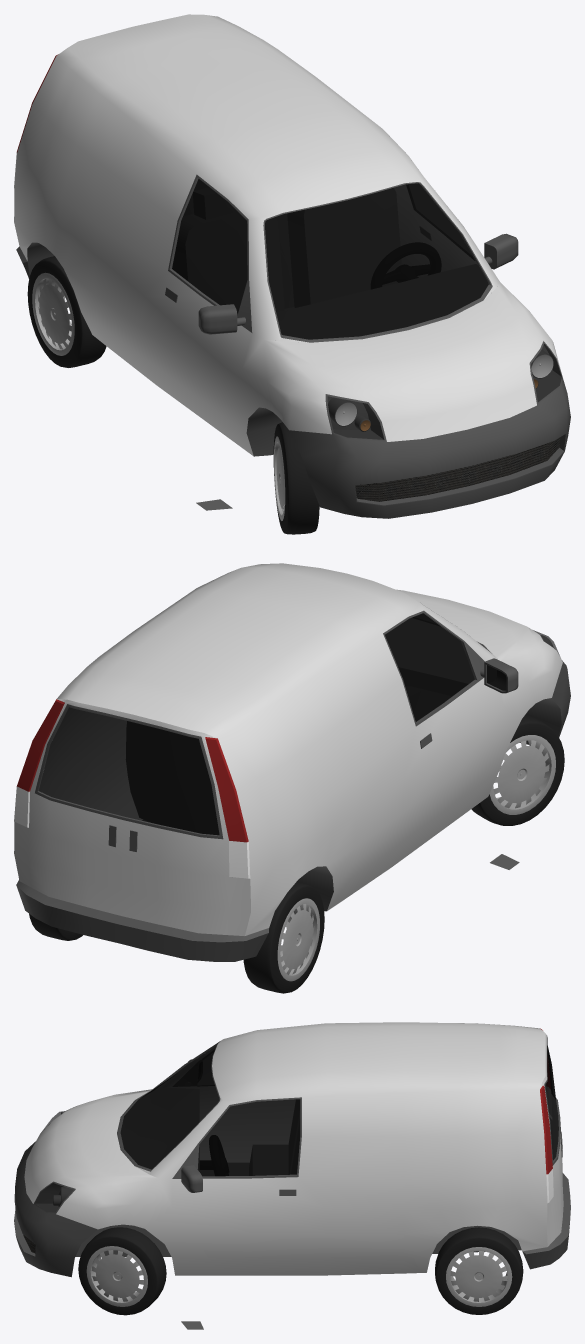
File: simple-european-compact-van-794dd0.glb
3 renders of one model, top to bottom at view 1: azimuth 30°, elevation 25°; view 2: azimuth 150°, elevation 25°; view 3: azimuth 270°, elevation 25°, orthographic. The views are drawn at different scales.
Visible parts, largest first — view 1: body, wheel-back-right, wheel-front-right; view 2: body, wheel-front-right, wheel-back-right, wheel-back-left; view 3: body, wheel-back-left, wheel-front-left.
Part boxes in pixels (x1,y1,x2,y2): body: (14, 14, 570, 518); wheel-back-right: (27, 256, 106, 367); wheel-front-right: (273, 422, 319, 534); body: (14, 563, 570, 961); wheel-front-right: (471, 714, 564, 825); wheel-back-right: (243, 881, 324, 993); wheel-back-left: (29, 914, 82, 940); body: (14, 1022, 570, 1329); wheel-back-left: (435, 1227, 523, 1314); wheel-front-left: (78, 1227, 166, 1315).
Size of the model in its own units: 2.13 by 1.85 by 4.16.
Materials: 12 (1 with a texture image).
